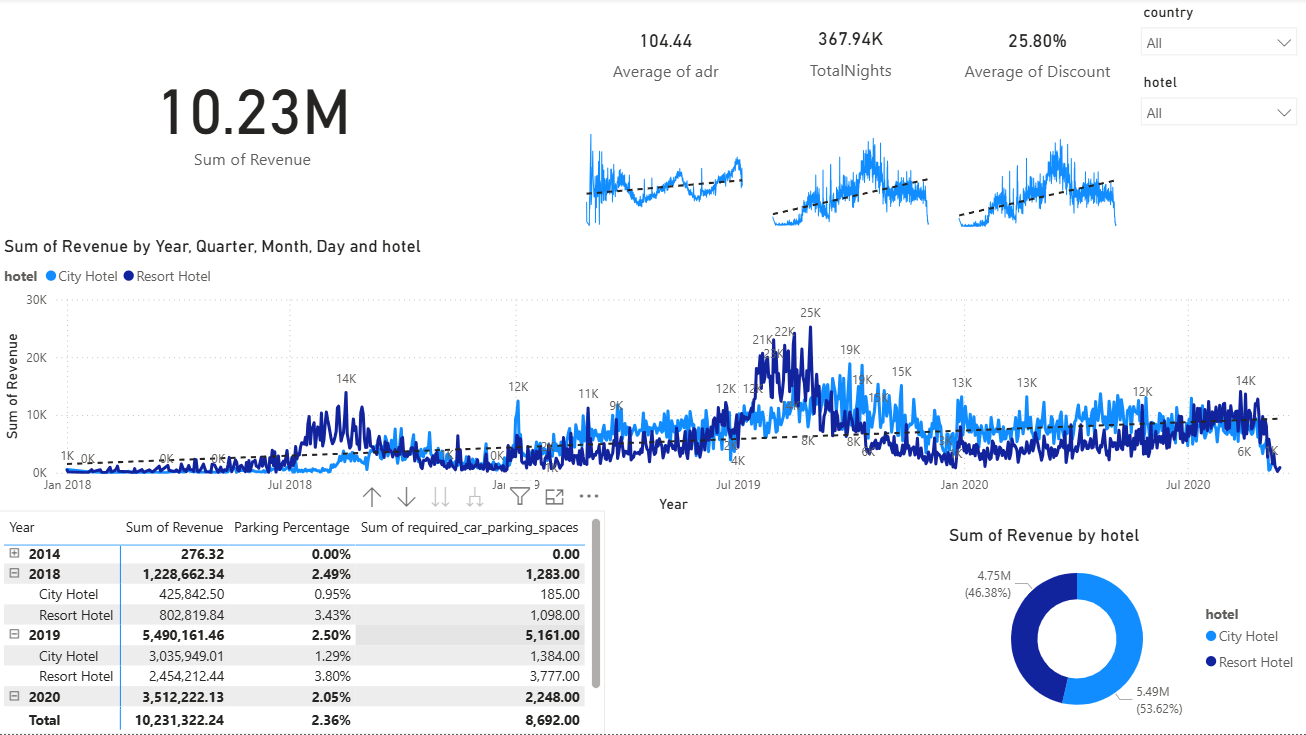

What the dashboard file says about the page in this screenshot:
{"tool":"powerbi","page":{"name":"Hotel DashBoard","canvas":[1280,720],"ordinal":0},"visuals":[{"type":"lineChart","fields":{"Y":["Sum(Query1.Revenue)"],"Category":["Query1.reservation_status_date.Variation.Date Hierarchy.Year","Query1.reservation_status_date.Variation.Date Hierarchy.Quarter","Query1.reservation_status_date.Variation.Date Hierarchy.Month","Query1.reservation_status_date.Variation.Date Hierarchy.Day"],"Series":["Query1.hotel"]},"box":[0,232.5,1280.3,275.8],"z":0},{"type":"card","fields":{"Values":["Sum(Query1.Revenue)"]},"box":[0,0,496.5,228.7],"z":1000},{"type":"card","fields":{"Values":["Avg(Query1.adr)"]},"box":[561.3,2.4,182.2,100.3],"z":4000},{"type":"card","fields":{"Values":["Query1.TotalNights"]},"box":[742.3,0,182.2,102.7],"z":5000},{"type":"card","fields":{"Values":["Avg(Query1.Discount)"]},"box":[924.5,2.4,183.4,100.3],"z":6000},{"type":"slicer","fields":{"Values":["Query1.country"]},"box":[1107.2,0,173,70.3],"z":7000},{"type":"slicer","fields":{"Values":["Query1.hotel"]},"box":[1107.2,68.9,173,60.8],"z":8000},{"type":"lineChart","fields":{"Category":["Query1.reservation_status_date.Variation.Date Hierarchy.Year","Query1.reservation_status_date.Variation.Date Hierarchy.Quarter","Query1.reservation_status_date.Variation.Date Hierarchy.Month","Query1.reservation_status_date.Variation.Date Hierarchy.Day"],"Y":["Avg(Query1.adr)"]},"box":[560.1,99,182.2,129.6],"z":9000},{"type":"lineChart","fields":{"Category":["Query1.reservation_status_date.Variation.Date Hierarchy.Year","Query1.reservation_status_date.Variation.Date Hierarchy.Quarter","Query1.reservation_status_date.Variation.Date Hierarchy.Month","Query1.reservation_status_date.Variation.Date Hierarchy.Day"],"Y":["Query1.TotalNights"]},"box":[742.3,99,182.2,129.6],"z":10000},{"type":"lineChart","fields":{"Category":["Query1.reservation_status_date.Variation.Date Hierarchy.Year","Query1.reservation_status_date.Variation.Date Hierarchy.Quarter","Query1.reservation_status_date.Variation.Date Hierarchy.Month","Query1.reservation_status_date.Variation.Date Hierarchy.Day"],"Y":["Query1.TotalNights"]},"box":[924.5,100.3,183.4,129.6],"z":11000},{"type":"donutChart","fields":{"Y":["Sum(Query1.Revenue)"],"Category":["Query1.hotel"]},"box":[924.7,515.1,355.6,205.5],"z":12000},{"type":"pivotTable","fields":{"Rows":["Query1.reservation_status_date.Variation.Date Hierarchy.Year","Query1.hotel"],"Values":["Sum(Query1.Revenue)","Query1.Parking Percentage","Sum(Query1.required_car_parking_spaces)"]},"box":[0,501.6,593.5,219],"z":13000}]}

Visuals, with their boxes in screenshot pixels (x1, y1, x2, y2), scaled from the page's 1280x720 canvas onto the 1306x735 screenshot:
lineChart - Sum(Query1.Revenue) x Query1.reservation_status_date.Variation.Date Hierarchy.Year: box=[0, 237, 1305, 519]
card - Sum(Query1.Revenue): box=[0, 0, 507, 233]
card - Avg(Query1.adr): box=[573, 2, 759, 105]
card - Query1.TotalNights: box=[757, 0, 943, 105]
card - Avg(Query1.Discount): box=[943, 2, 1130, 105]
slicer - Query1.country: box=[1130, 0, 1305, 72]
slicer - Query1.hotel: box=[1130, 70, 1305, 132]
lineChart - Query1.reservation_status_date.Variation.Date Hierarchy.Year x Query1.reservation_status_date.Variation.Date Hierarchy.Quarter: box=[571, 101, 757, 233]
lineChart - Query1.reservation_status_date.Variation.Date Hierarchy.Year x Query1.reservation_status_date.Variation.Date Hierarchy.Quarter: box=[757, 101, 943, 233]
lineChart - Query1.reservation_status_date.Variation.Date Hierarchy.Year x Query1.reservation_status_date.Variation.Date Hierarchy.Quarter: box=[943, 102, 1130, 235]
donutChart - Sum(Query1.Revenue) x Query1.hotel: box=[943, 526, 1305, 734]
pivotTable - Query1.reservation_status_date.Variation.Date Hierarchy.Year x Query1.hotel: box=[0, 512, 606, 734]
